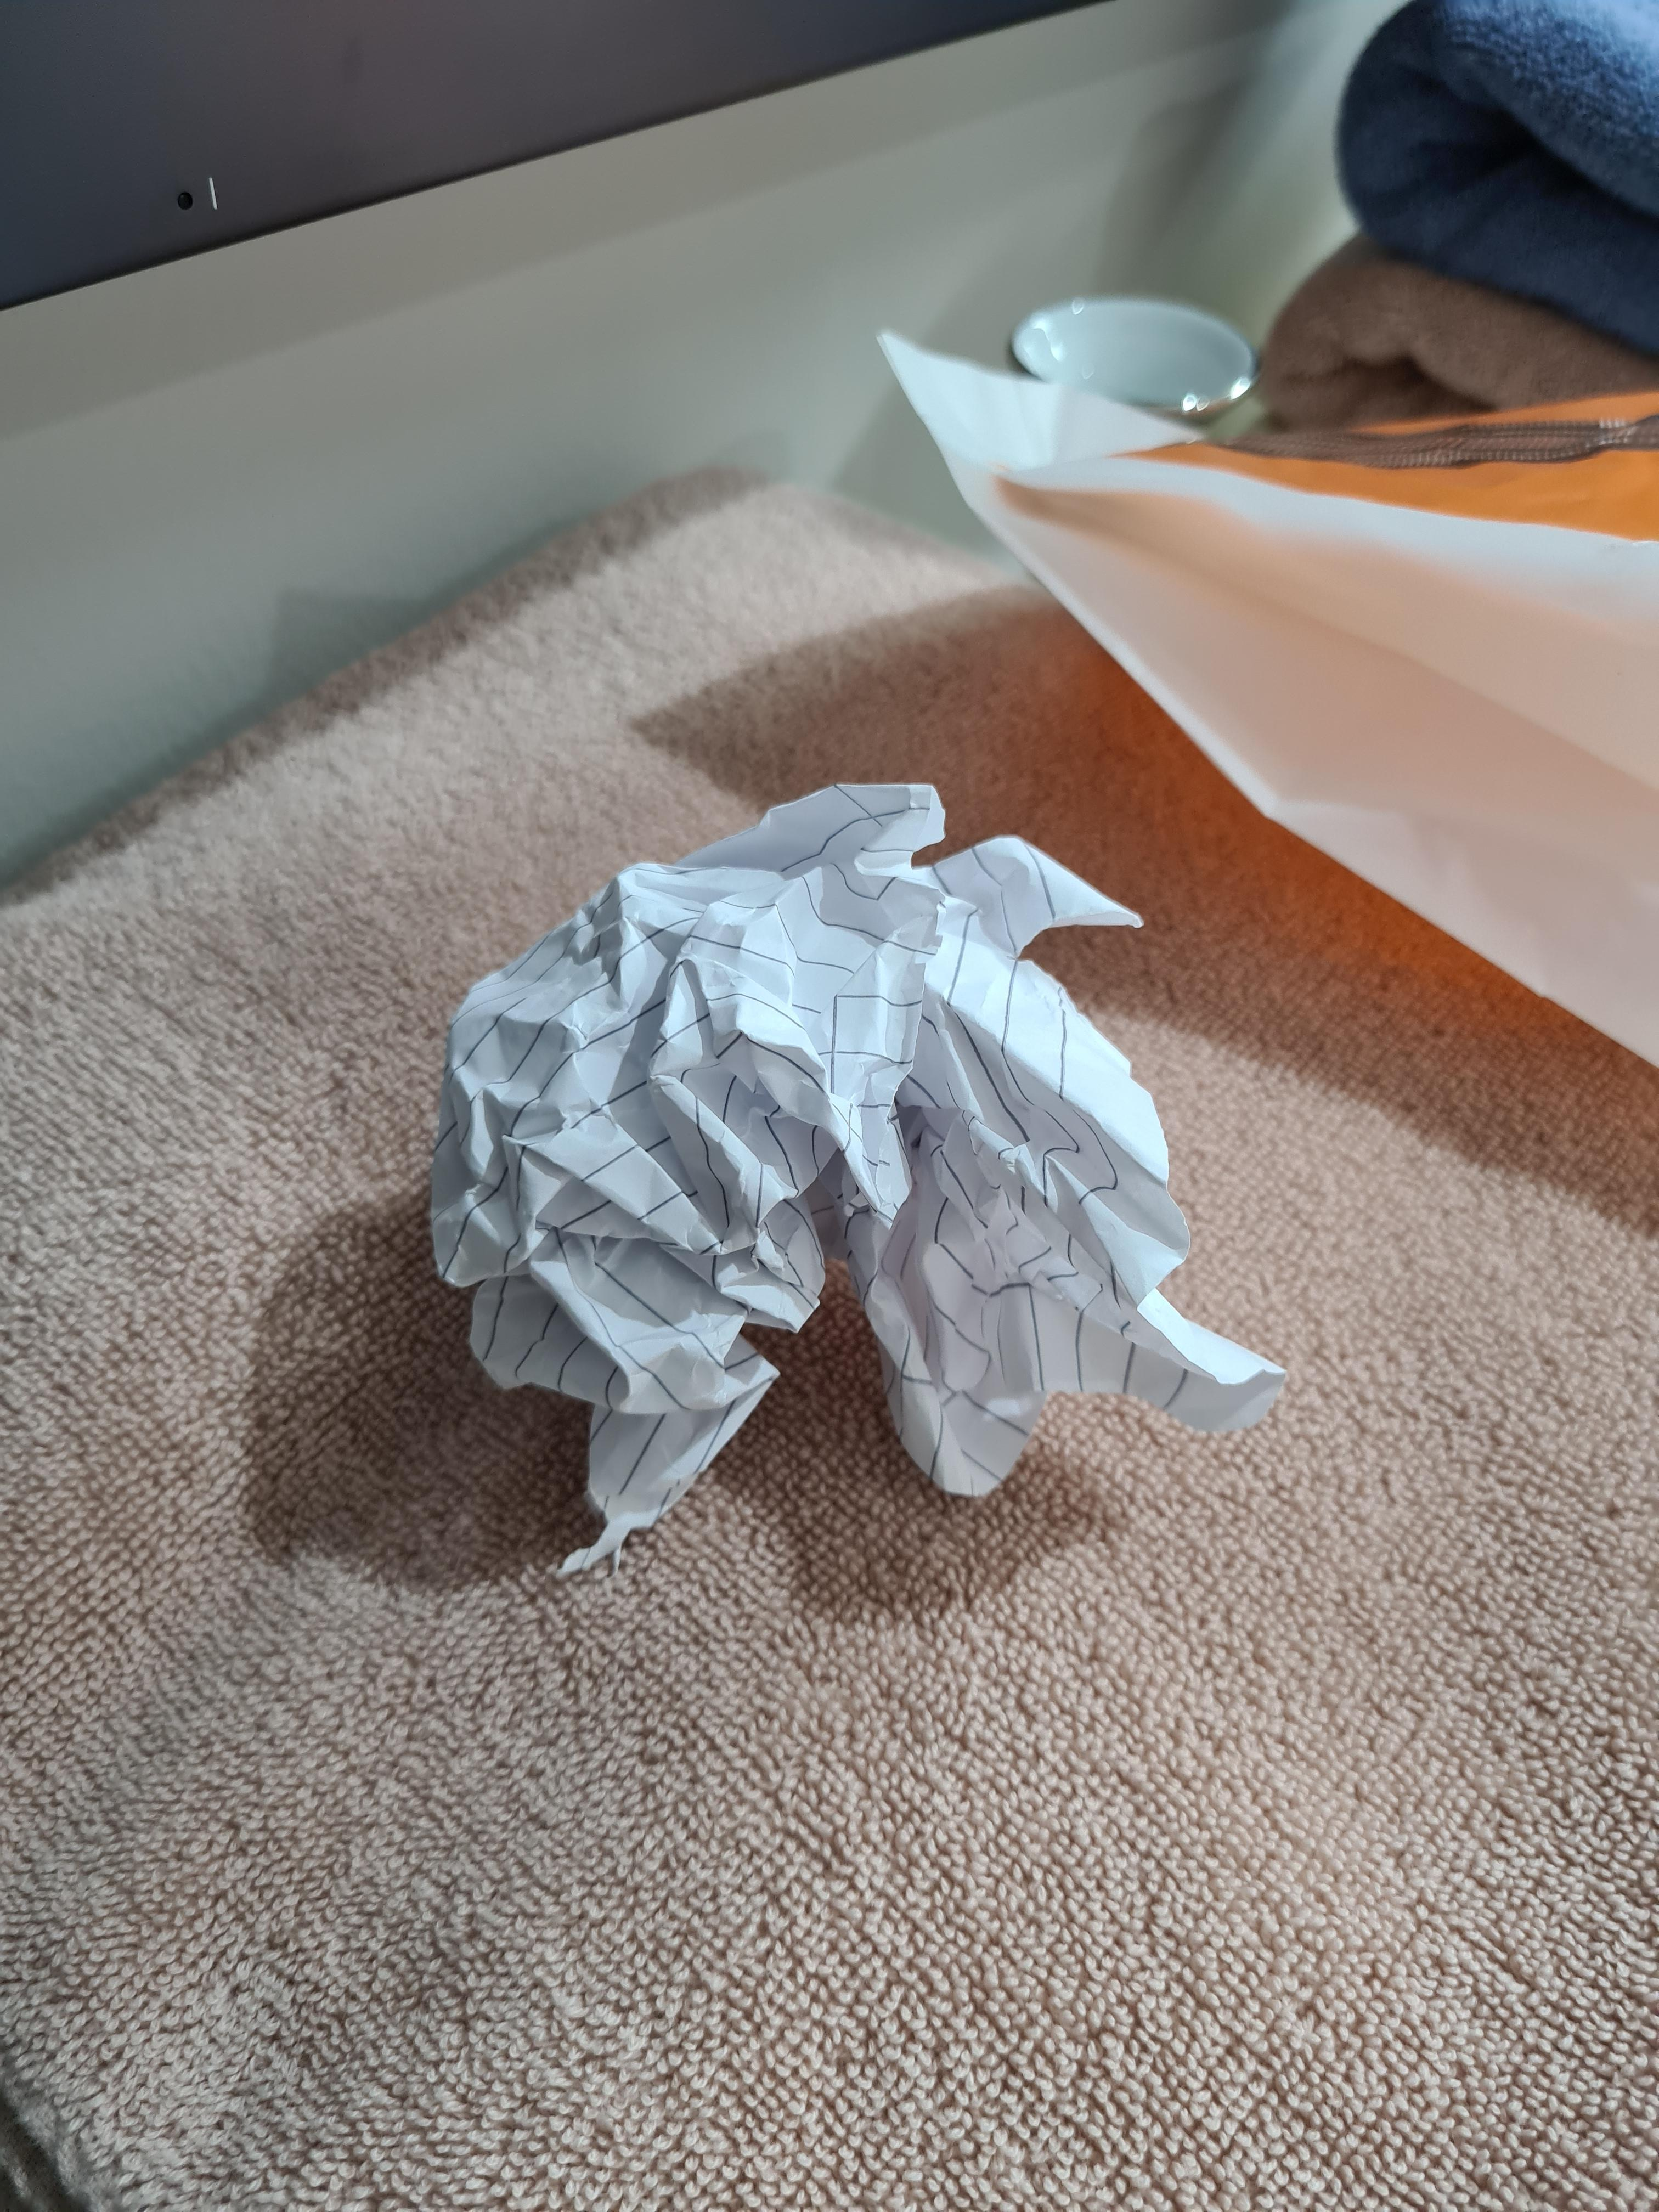Paper: (424, 775, 1193, 1543)
